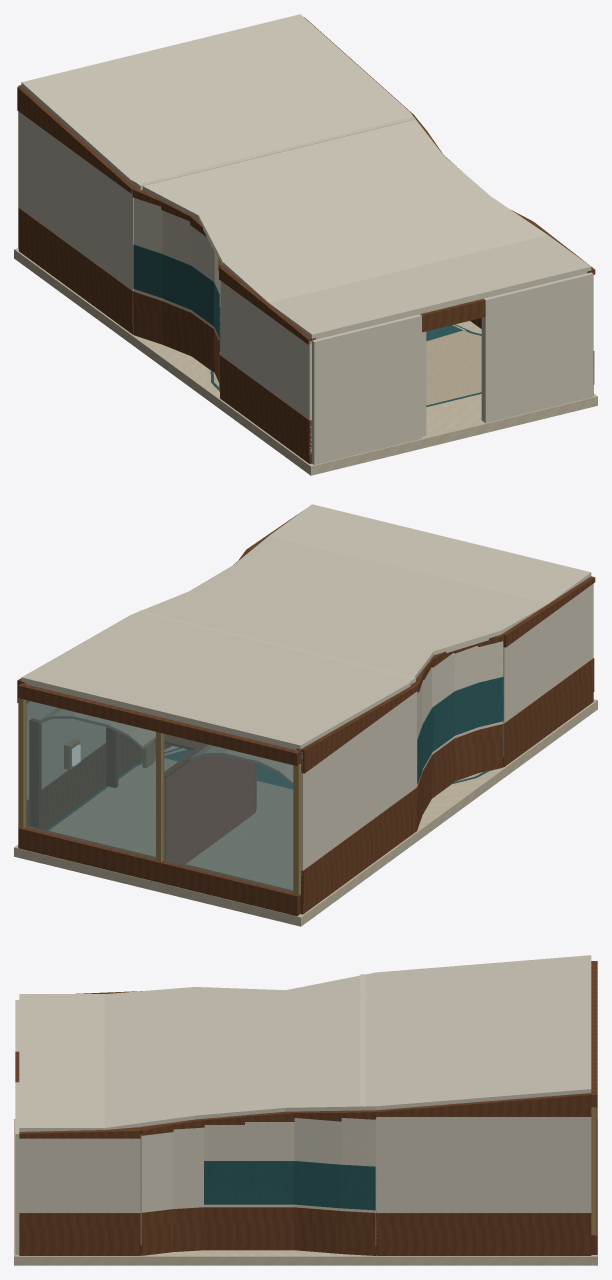
The model's file is shell.glb.
3 renders of one model, top to bottom at view 1: azimuth 30°, elevation 25°; view 2: azimuth 150°, elevation 25°; view 3: azimuth 270°, elevation 25°, orthographic.
Parts seen in each view (by area): view 1: SUI_Runtime_ivory_enamel, SUI_Runtime_warm_walnut, SUI_Runtime_warm_stone, SUI_Runtime_teal_weave, SUI_Runtime_oatmeal_weave; view 2: SUI_Runtime_ivory_enamel, SUI_Runtime_warm_walnut, SUI_Runtime_SuiteHospitalityGlass, SUI_Runtime_oatmeal_weave, SUI_Runtime_clay_weave, SUI_Runtime_warm_stone, SUI_Runtime_teal_weave, SUI_Runtime_champagne_metal; view 3: SUI_Runtime_ivory_enamel, SUI_Runtime_warm_walnut, SUI_Runtime_teal_weave, SUI_Runtime_warm_stone, SUI_Runtime_champagne_metal.
Boxes of the visible parts, <box> form: SUI_Runtime_ivory_enamel: <box>19,14,593,464</box>; SUI_Runtime_warm_walnut: <box>17,17,595,463</box>; SUI_Runtime_warm_stone: <box>14,248,597,475</box>; SUI_Runtime_teal_weave: <box>133,244,481,406</box>; SUI_Runtime_oatmeal_weave: <box>213,324,481,405</box>; SUI_Runtime_ivory_enamel: <box>21,504,593,885</box>; SUI_Runtime_warm_walnut: <box>17,511,595,916</box>; SUI_Runtime_SuiteHospitalityGlass: <box>25,700,293,892</box>; SUI_Runtime_oatmeal_weave: <box>39,708,482,889</box>; SUI_Runtime_clay_weave: <box>164,756,256,863</box>; SUI_Runtime_warm_stone: <box>14,699,597,926</box>; SUI_Runtime_teal_weave: <box>46,677,503,830</box>; SUI_Runtime_champagne_metal: <box>18,698,300,895</box>; SUI_Runtime_ivory_enamel: <box>15,955,591,1254</box>; SUI_Runtime_warm_walnut: <box>15,961,597,1255</box>; SUI_Runtime_teal_weave: <box>204,1161,375,1210</box>; SUI_Runtime_warm_stone: <box>14,1119,597,1265</box>; SUI_Runtime_champagne_metal: <box>591,1107,596,1235</box>.
Bounding box in the file's own units: 7.2 × 4.26 × 12.9.
Materials: 9 (7 with a texture image).
